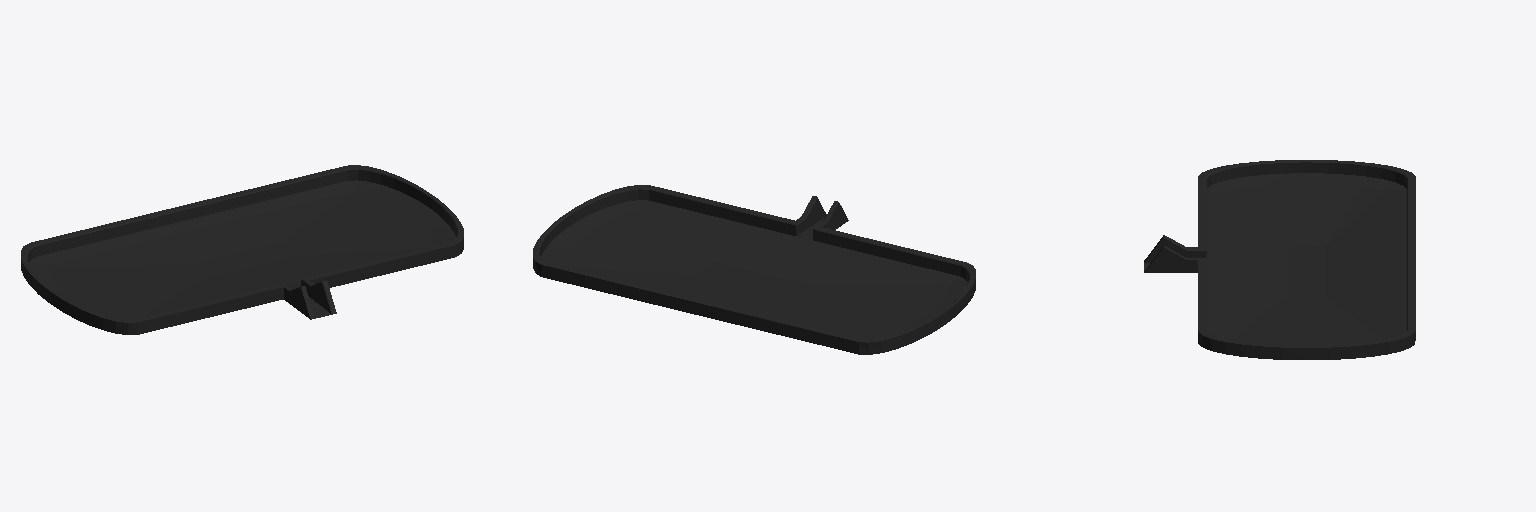
File: StadiumBaseNOUV.obj
3 views of the same model, side by side, from view 1: azimuth 30°, elevation 25°; view 2: azimuth 150°, elevation 25°; view 3: azimuth 270°, elevation 25° (orthographic).
Visible parts, largest first — view 1: StadiumShape; view 2: StadiumShape; view 3: StadiumShape.
Part boxes in pixels (bbox=[...]): StadiumShape: bbox=[21, 165, 463, 334]; StadiumShape: bbox=[533, 185, 975, 354]; StadiumShape: bbox=[1144, 160, 1415, 359].
Bounding box in the file's own units: 300 × 22.1 × 182.